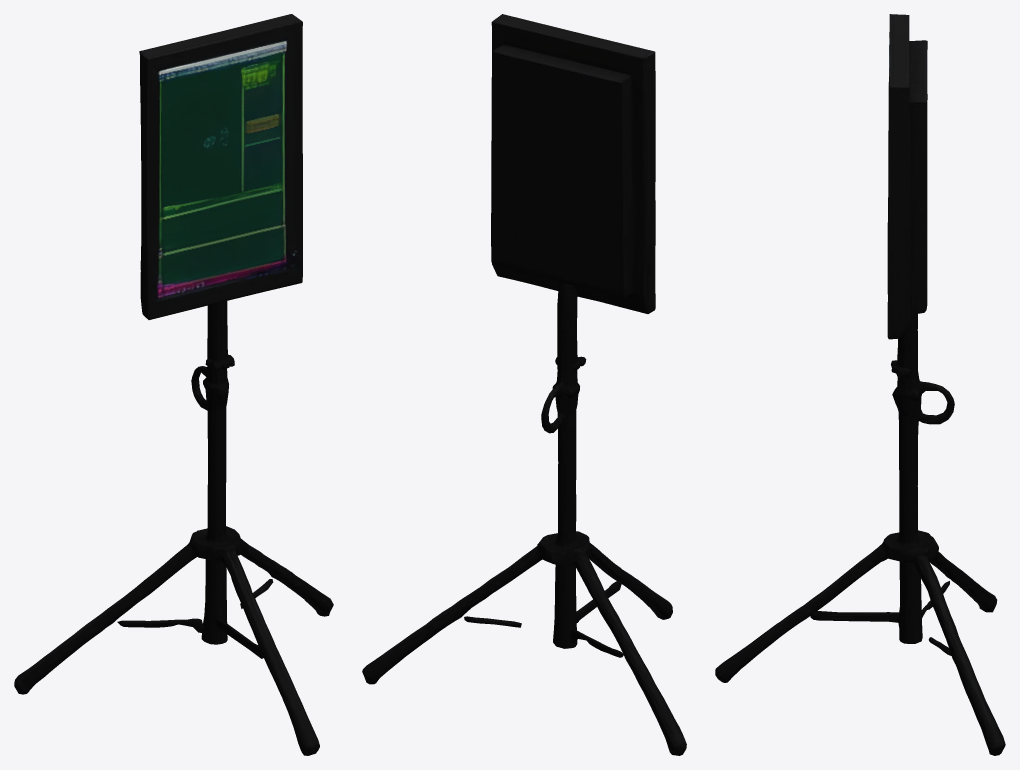
Rendered from tank_tv.glb.
3 renders of one model, left to right at view 1: azimuth 30°, elevation 25°; view 2: azimuth 150°, elevation 25°; view 3: azimuth 270°, elevation 25°, orthographic. The views are drawn at different scales.
Parts seen in each view (by area): view 1: geometry_0; view 2: geometry_0; view 3: geometry_0.
Boxes of the visible parts, left/top/right/bottom form: geometry_0: left=14, top=14, right=333, bottom=755; geometry_0: left=362, top=14, right=686, bottom=755; geometry_0: left=715, top=14, right=1005, bottom=755.
Bounding box in the file's own units: 0.5159 × 1 × 0.4165.
1 material, 1 textured.
